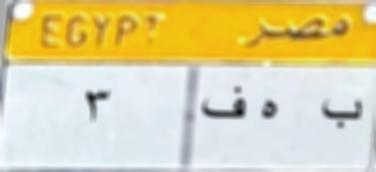3: (78, 82, 113, 128)
baa: (319, 92, 364, 136)
faa: (198, 83, 251, 130)
haa: (254, 93, 282, 131)
